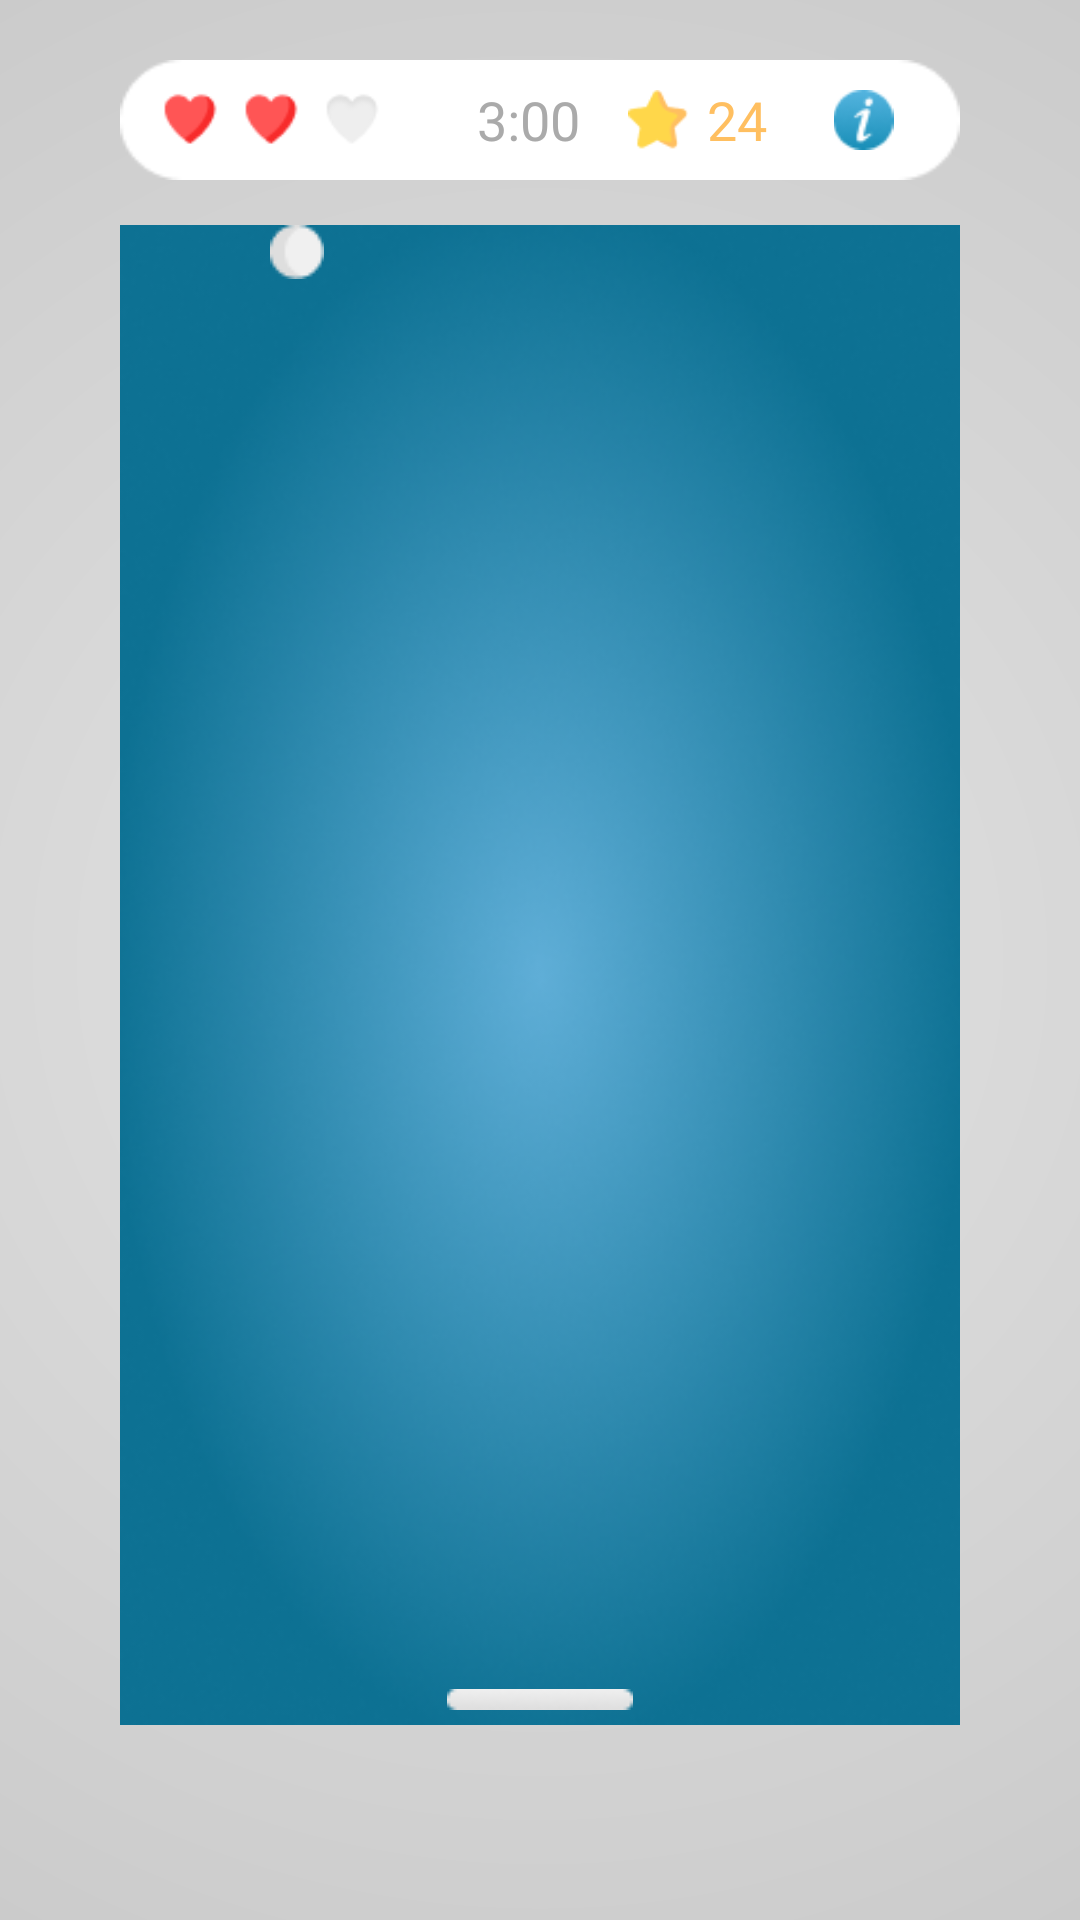

Icon bounding boxes for this 1080 × 1920 phone screenshot, format (x1, y1, x2, y2):
info: (834, 90, 894, 150)
information star: (628, 90, 688, 149)
traine heartbeat life: (164, 94, 217, 144), (245, 94, 298, 144)
traine heartbeat no life: (327, 94, 378, 143)
tutorial ball: (270, 225, 324, 279)
